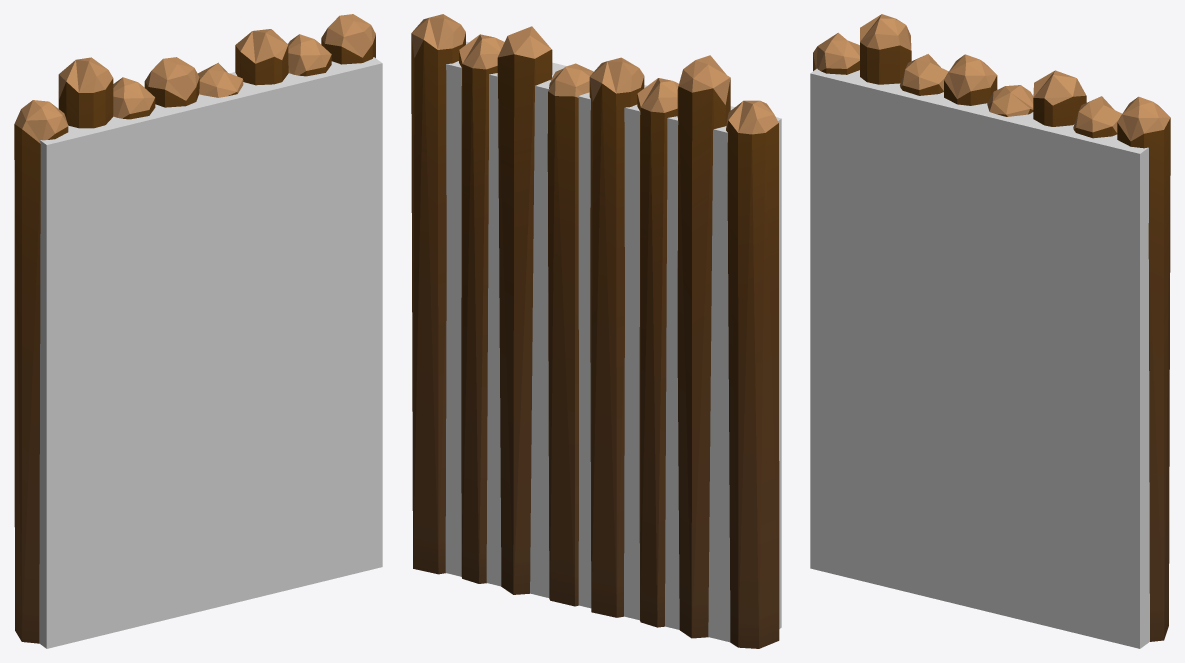
Rendered from palisade_1.glb.
The picture shows the model from 3 angles, left to right: view 1: azimuth 30°, elevation 25°; view 2: azimuth 150°, elevation 25°; view 3: azimuth 330°, elevation 25°; orthographic projection. The views are drawn at different scales.
Visible parts, largest first — view 1: Cube.001, FenceBig_01; view 2: FenceBig_01, Cube.001; view 3: Cube.001, FenceBig_01.
Part boxes in pixels (x1=…): Cube.001: x1=39, y1=57, x2=382, y2=648; FenceBig_01: x1=14, y1=14, x2=375, y2=643; FenceBig_01: x1=411, y1=14, x2=779, y2=648; Cube.001: x1=445, y1=41, x2=781, y2=642; Cube.001: x1=810, y1=68, x2=1149, y2=648; FenceBig_01: x1=813, y1=14, x2=1170, y2=641.
Size of the model in its own units: 2.26 by 3.41 by 0.3643.
Materials: 1 (1 with a texture image).
